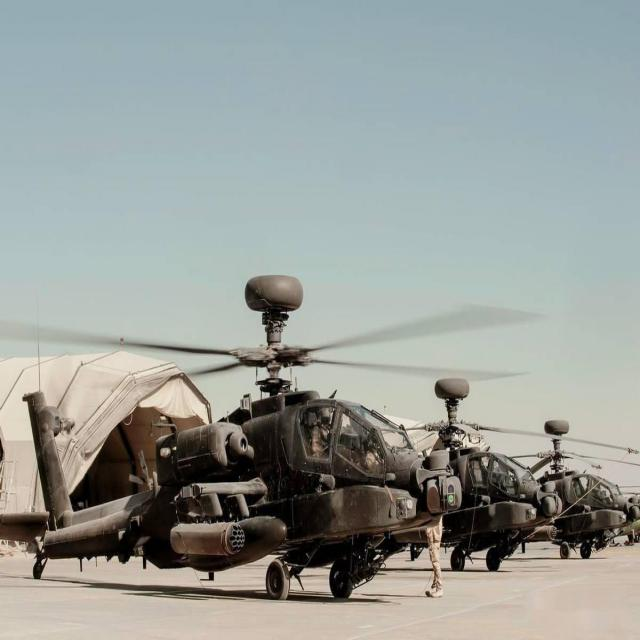MIL_HELO: (10, 264, 536, 610), (344, 361, 575, 573)
